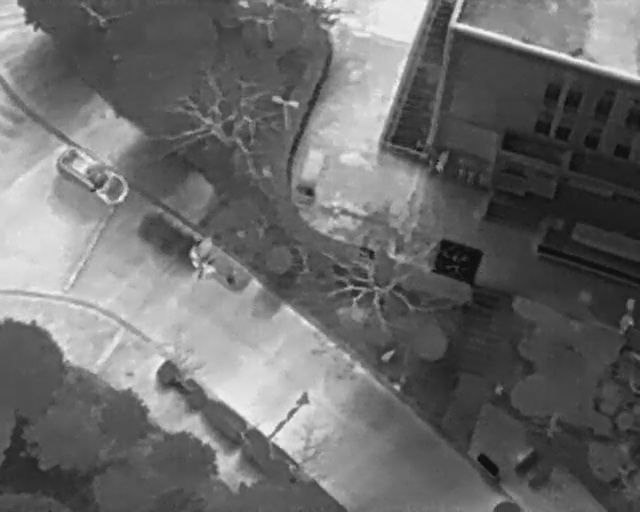Car: (51, 138, 136, 215)
